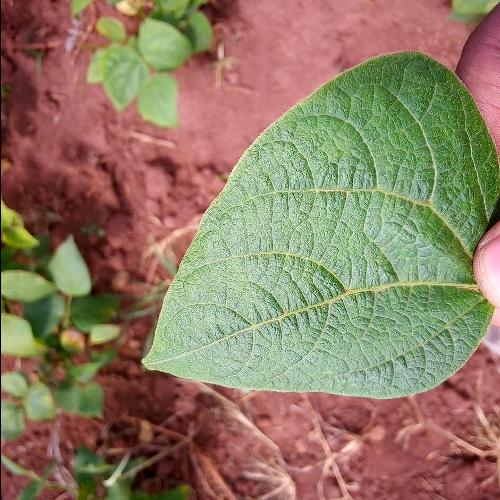sehat: (306, 118, 444, 361)
